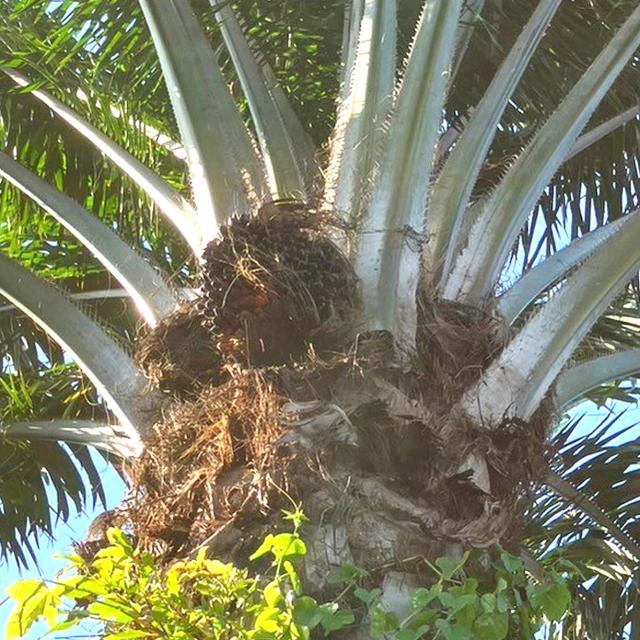ripe: (173, 193, 365, 381)
